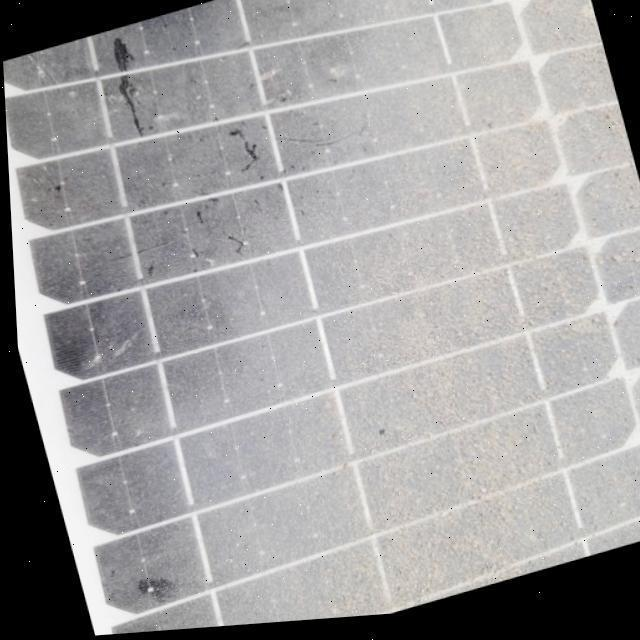Surface Contaminant: (2, 0, 541, 535)
